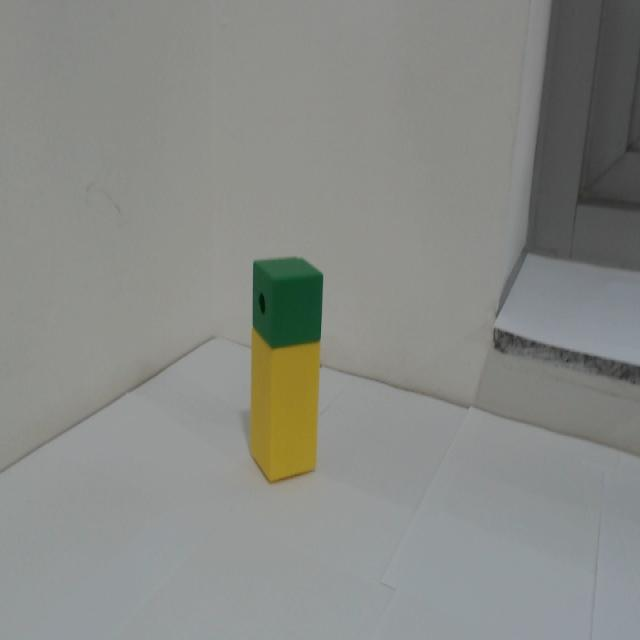cube: (238, 246, 330, 362)
